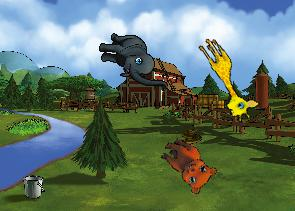bear: (151, 133, 221, 198)
elephant: (98, 33, 168, 89)
giraffe: (187, 34, 263, 125)
